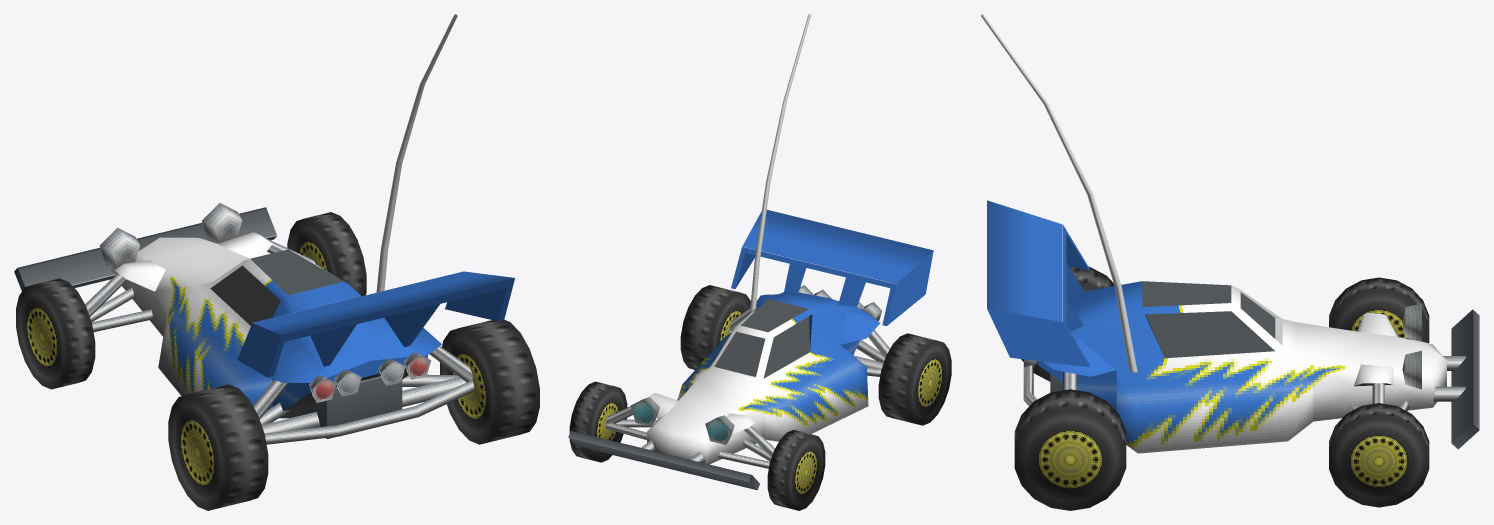
The model's file is RC Buggy.obj.
3 views of the same model, side by side, from view 1: azimuth 30°, elevation 25°; view 2: azimuth 150°, elevation 25°; view 3: azimuth 270°, elevation 25° (orthographic). The views are drawn at different scales.
Parts seen in each view (by area): view 1: dune_vShape, wShape1.001, wShape1, wShape2, windShape, wShape2.001; view 2: dune_vShape, wShape1.001, windShape, wShape2, wShape1, wShape2.001; view 3: dune_vShape, wShape1, wShape2.001, windShape, wShape2, wShape1.001.
Boxes of the visible parts, x1,y1,x2,y2 form: dune_vShape: [14, 14, 514, 444]; wShape1.001: [168, 384, 268, 510]; wShape1: [440, 320, 539, 444]; wShape2: [16, 278, 95, 389]; windShape: [210, 249, 343, 325]; wShape2.001: [287, 212, 366, 295]; dune_vShape: [568, 14, 933, 490]; wShape1.001: [878, 333, 951, 425]; windShape: [714, 299, 809, 378]; wShape2: [767, 430, 825, 510]; wShape1: [680, 285, 750, 369]; wShape2.001: [569, 381, 627, 462]; dune_vShape: [980, 14, 1479, 453]; wShape1: [1014, 389, 1126, 510]; wShape2.001: [1329, 403, 1429, 507]; windShape: [1142, 281, 1275, 358]; wShape2: [1329, 277, 1429, 343]; wShape1.001: [1021, 266, 1114, 381].
Size of the model in its own units: 1.17 by 1.7 by 1.71.
Materials: 2 (2 with a texture image).
